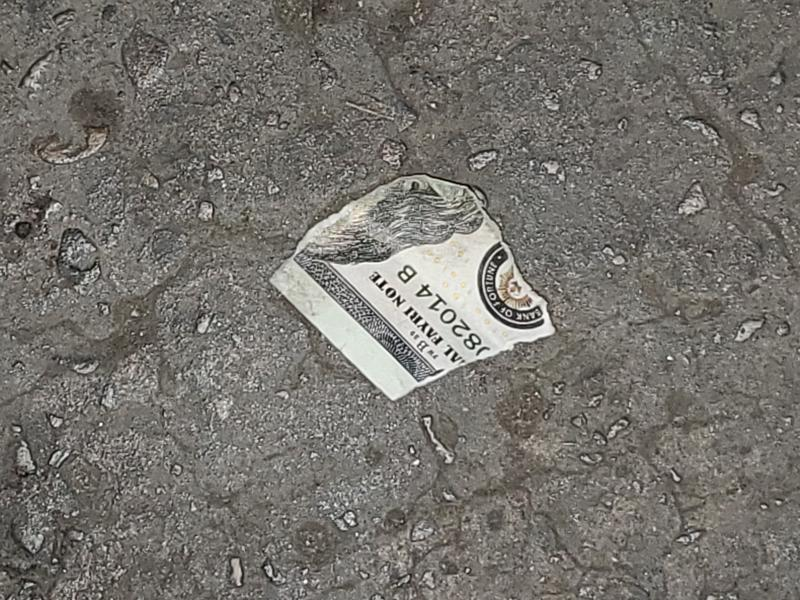papel: (270, 177, 558, 402)
